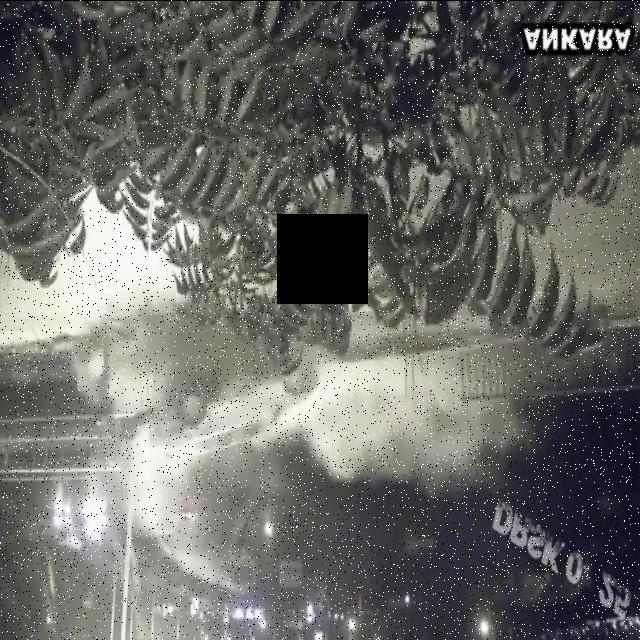person: (107, 348, 390, 464)
